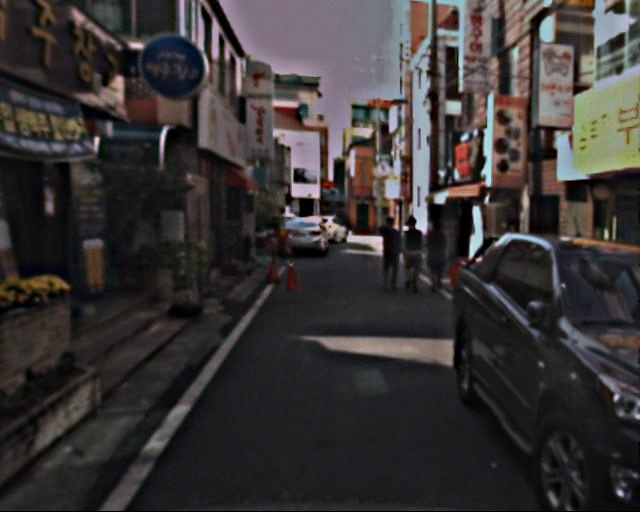person: (373, 214, 406, 294), (397, 216, 429, 294), (421, 218, 452, 293)
